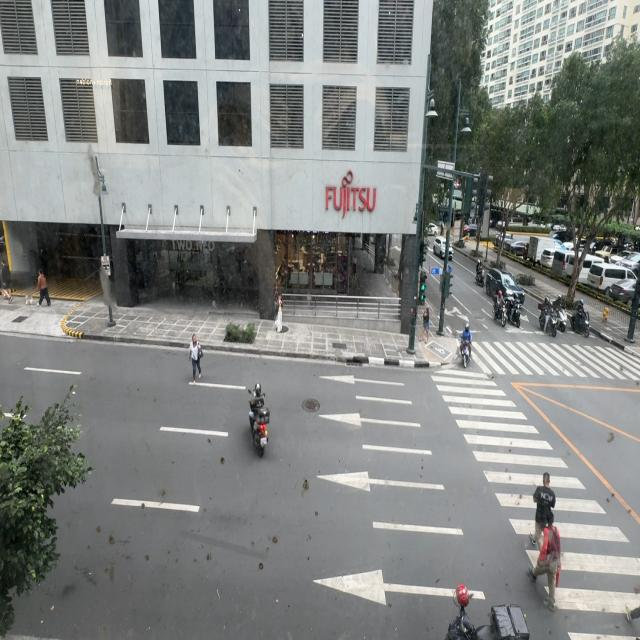crossing: (529, 519, 562, 613), (528, 460, 561, 536)
jaywalking: (189, 336, 203, 386)
